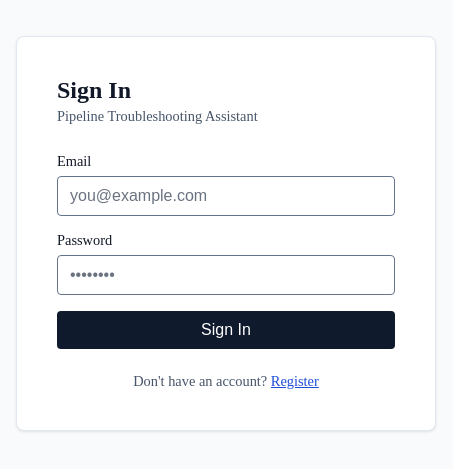
Test: LoginPage inline validation › shows email required error when email is empty
Click the button "Sign In" at (226, 330), box [57,310,395,348]
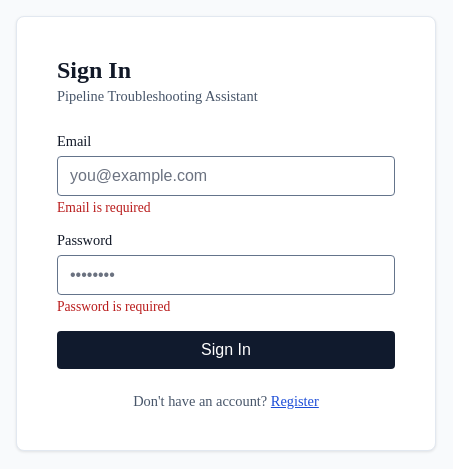
Now the text "Email is required" is shown, box [57,200,151,214]
